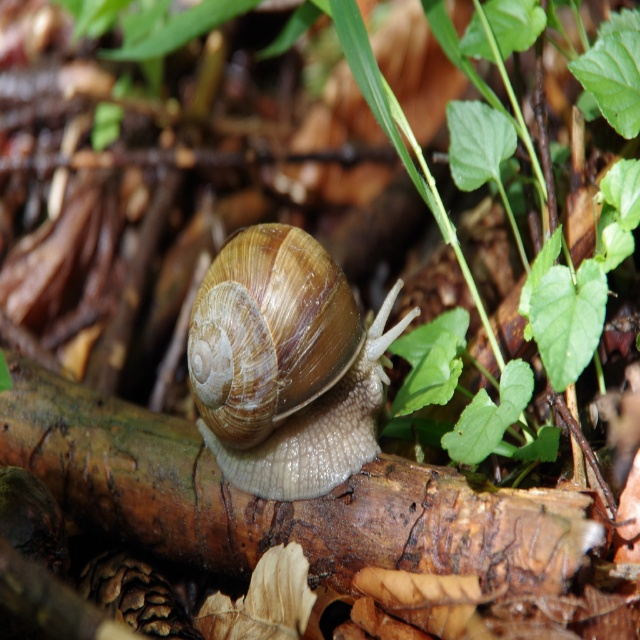Snail: (184, 218, 424, 504)
